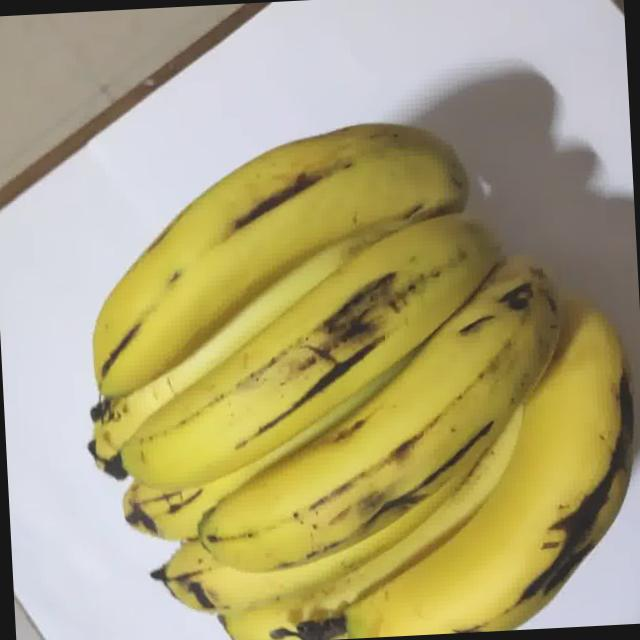banana_pacche: (17, 19, 640, 640)
